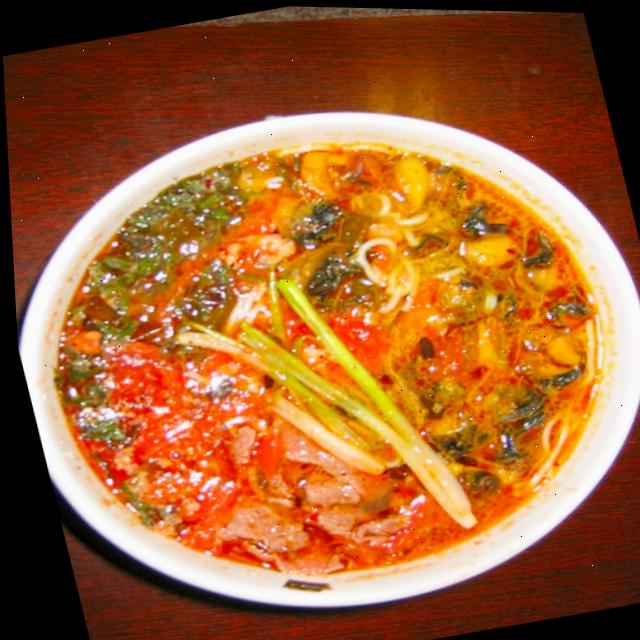面条主食: (9, 61, 640, 640)
